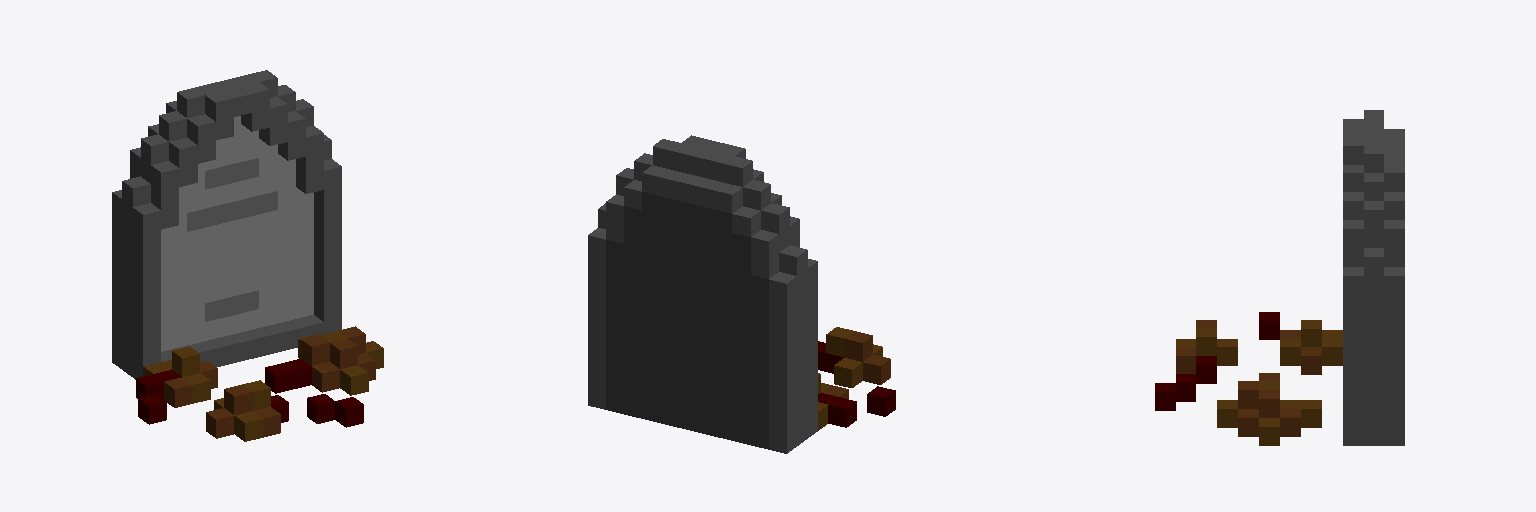
3 views of the same model, side by side, from view 1: azimuth 30°, elevation 25°; view 2: azimuth 150°, elevation 25°; view 3: azimuth 270°, elevation 25° (orthographic).
Size of the model in its own units: 13 by 14 by 12.
Materials: 1 (1 with a texture image).